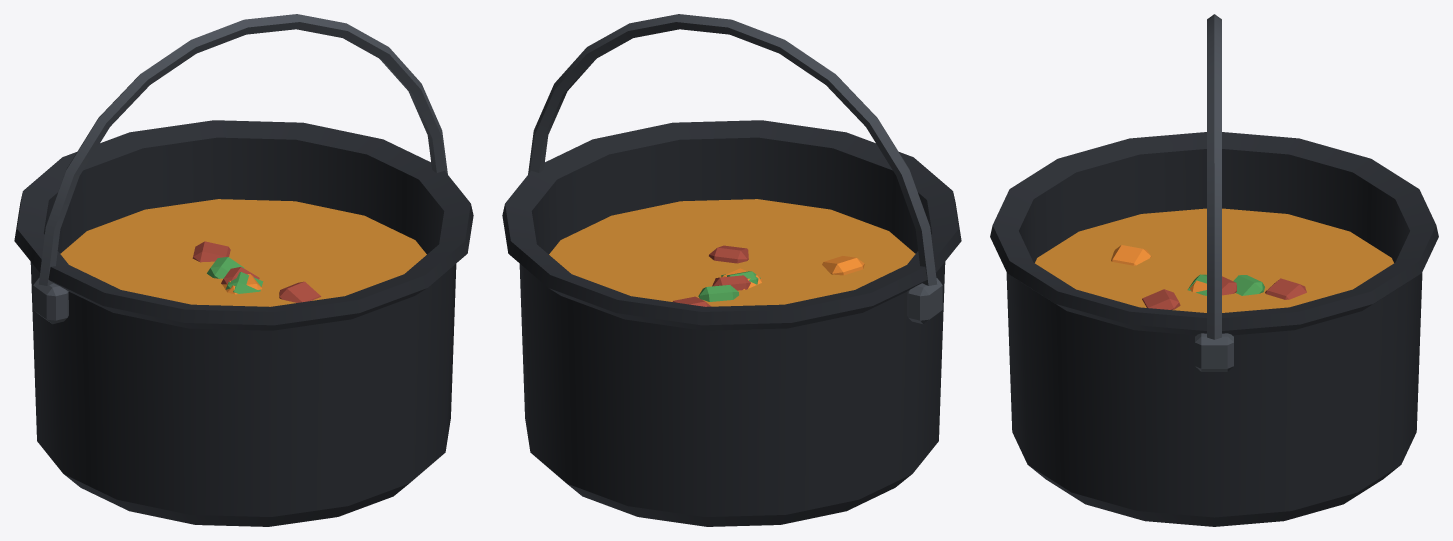
The model's file is SM_Cooking_Pot.glb.
3 renders of one model, left to right at view 1: azimuth 30°, elevation 25°; view 2: azimuth 150°, elevation 25°; view 3: azimuth 270°, elevation 25°, orthographic. The views are drawn at different scales.
Parts seen in each view (by area): view 1: SM_Cooking_Pot; view 2: SM_Cooking_Pot; view 3: SM_Cooking_Pot.
Boxes of the visible parts, x1,y1,x2,y2 form: SM_Cooking_Pot: (14,14,473,526); SM_Cooking_Pot: (502,14,961,526); SM_Cooking_Pot: (990,14,1438,526).
Size of the model in its own units: 0.352 by 0.351 by 0.344.
1 material, 1 textured.
